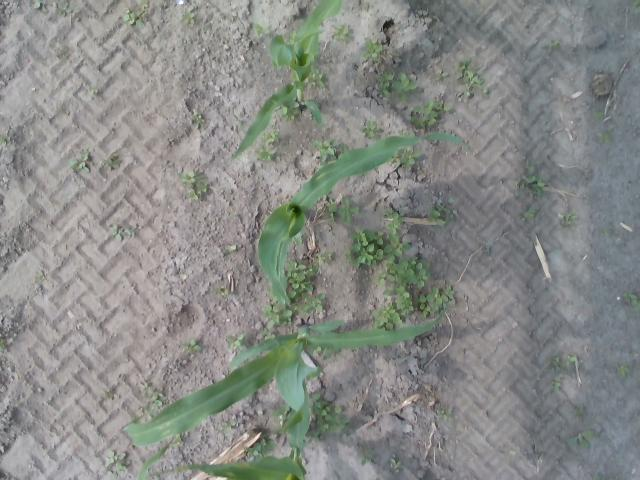Maize: (125, 307, 447, 446), (258, 132, 467, 306), (231, 0, 343, 158), (134, 435, 306, 480)
Weeds: (375, 288, 414, 329), (382, 256, 430, 287), (351, 229, 386, 268), (458, 59, 488, 98), (312, 398, 348, 430), (286, 262, 316, 296), (412, 101, 452, 126), (417, 288, 452, 316), (382, 240, 410, 263), (262, 304, 284, 330), (186, 176, 208, 200), (396, 74, 416, 100), (338, 198, 359, 222), (568, 432, 594, 450), (68, 154, 91, 174), (106, 450, 128, 470), (124, 9, 147, 28), (108, 224, 132, 242), (384, 212, 402, 234), (362, 38, 380, 60), (315, 140, 334, 160), (306, 291, 324, 310), (227, 332, 244, 350), (26, 0, 49, 13), (399, 152, 422, 165), (428, 208, 444, 226), (147, 395, 163, 412), (334, 26, 351, 42), (255, 440, 274, 454), (188, 110, 202, 129), (362, 121, 377, 138), (184, 340, 202, 354), (518, 174, 536, 188), (377, 82, 392, 98), (255, 146, 272, 160), (542, 40, 559, 54), (57, 1, 72, 16), (252, 23, 270, 35), (220, 421, 235, 435), (575, 404, 586, 422), (533, 180, 545, 196), (560, 212, 576, 224), (313, 70, 324, 87), (105, 156, 118, 170), (180, 172, 196, 183), (435, 70, 448, 82), (284, 108, 298, 119), (360, 455, 374, 466), (625, 294, 639, 305), (247, 447, 260, 458), (598, 131, 612, 141), (520, 209, 534, 219), (34, 270, 46, 281), (266, 132, 277, 144), (184, 13, 196, 24), (380, 73, 394, 82), (216, 286, 228, 296), (566, 356, 576, 368), (618, 365, 630, 375), (0, 134, 12, 144), (481, 239, 490, 252), (138, 0, 148, 10), (552, 357, 561, 368), (551, 380, 561, 388), (593, 112, 602, 120), (0, 339, 6, 350), (441, 410, 448, 419), (90, 89, 98, 95)
